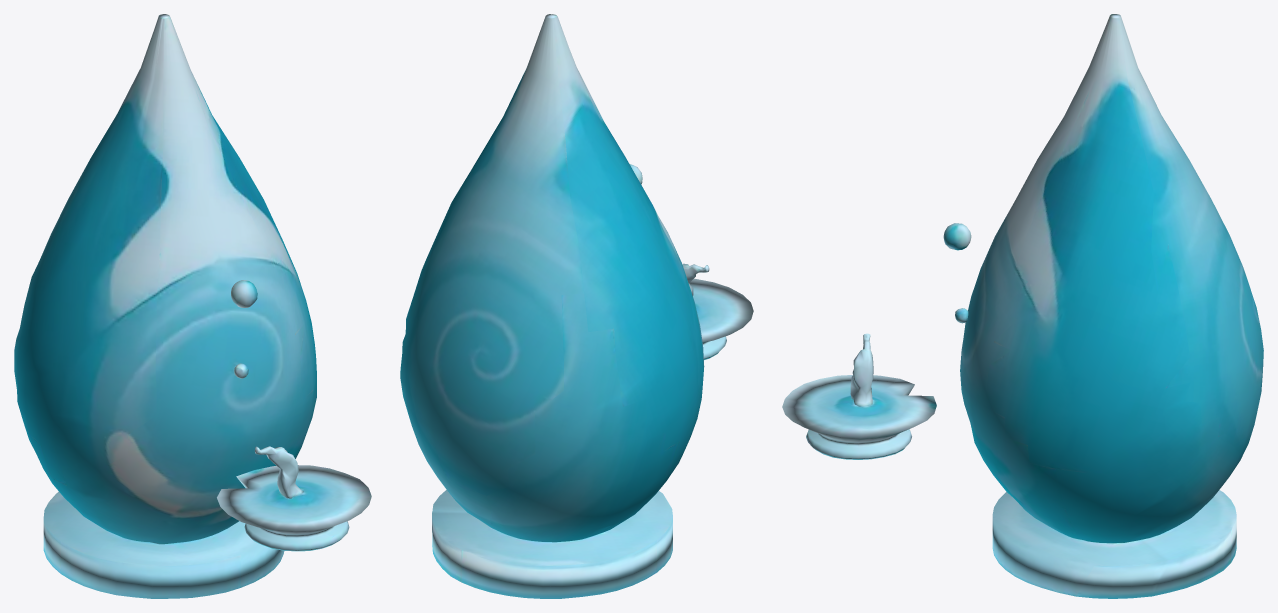
Rendered from drinking_water.glb.
The picture shows the model from 3 angles, left to right: view 1: azimuth 30°, elevation 25°; view 2: azimuth 150°, elevation 25°; view 3: azimuth 270°, elevation 25°; orthographic projection.
Bounding box in the file's own units: 0.4878 × 0.9512 × 0.7812.
1 material, 1 textured.
